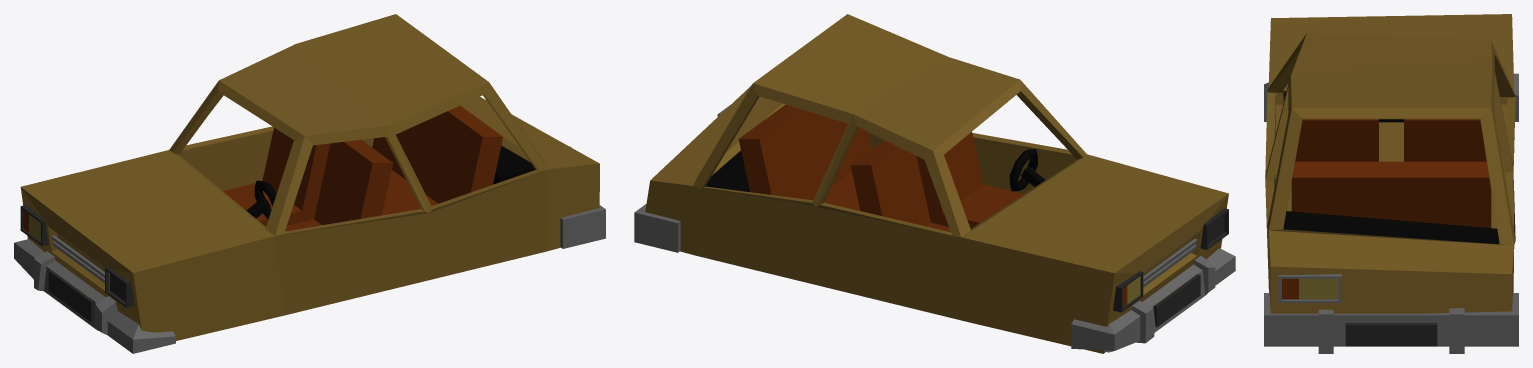
Rendered from Broken_car.fbx.
3 views of the same model, side by side, from view 1: azimuth 30°, elevation 25°; view 2: azimuth 150°, elevation 25°; view 3: azimuth 270°, elevation 25° (orthographic). The views are drawn at different scales.
Parts seen in each view (by area): view 1: Cube.006; view 2: Cube.006; view 3: Cube.006.
Part boxes in pixels (box(x1,y1,x2,y2)): Cube.006: box(14, 14, 605, 353); Cube.006: box(634, 14, 1235, 353); Cube.006: box(1264, 14, 1518, 353).
Size of the model in its own units: 306 by 105 by 129.
Materials: 1 (1 with a texture image).
